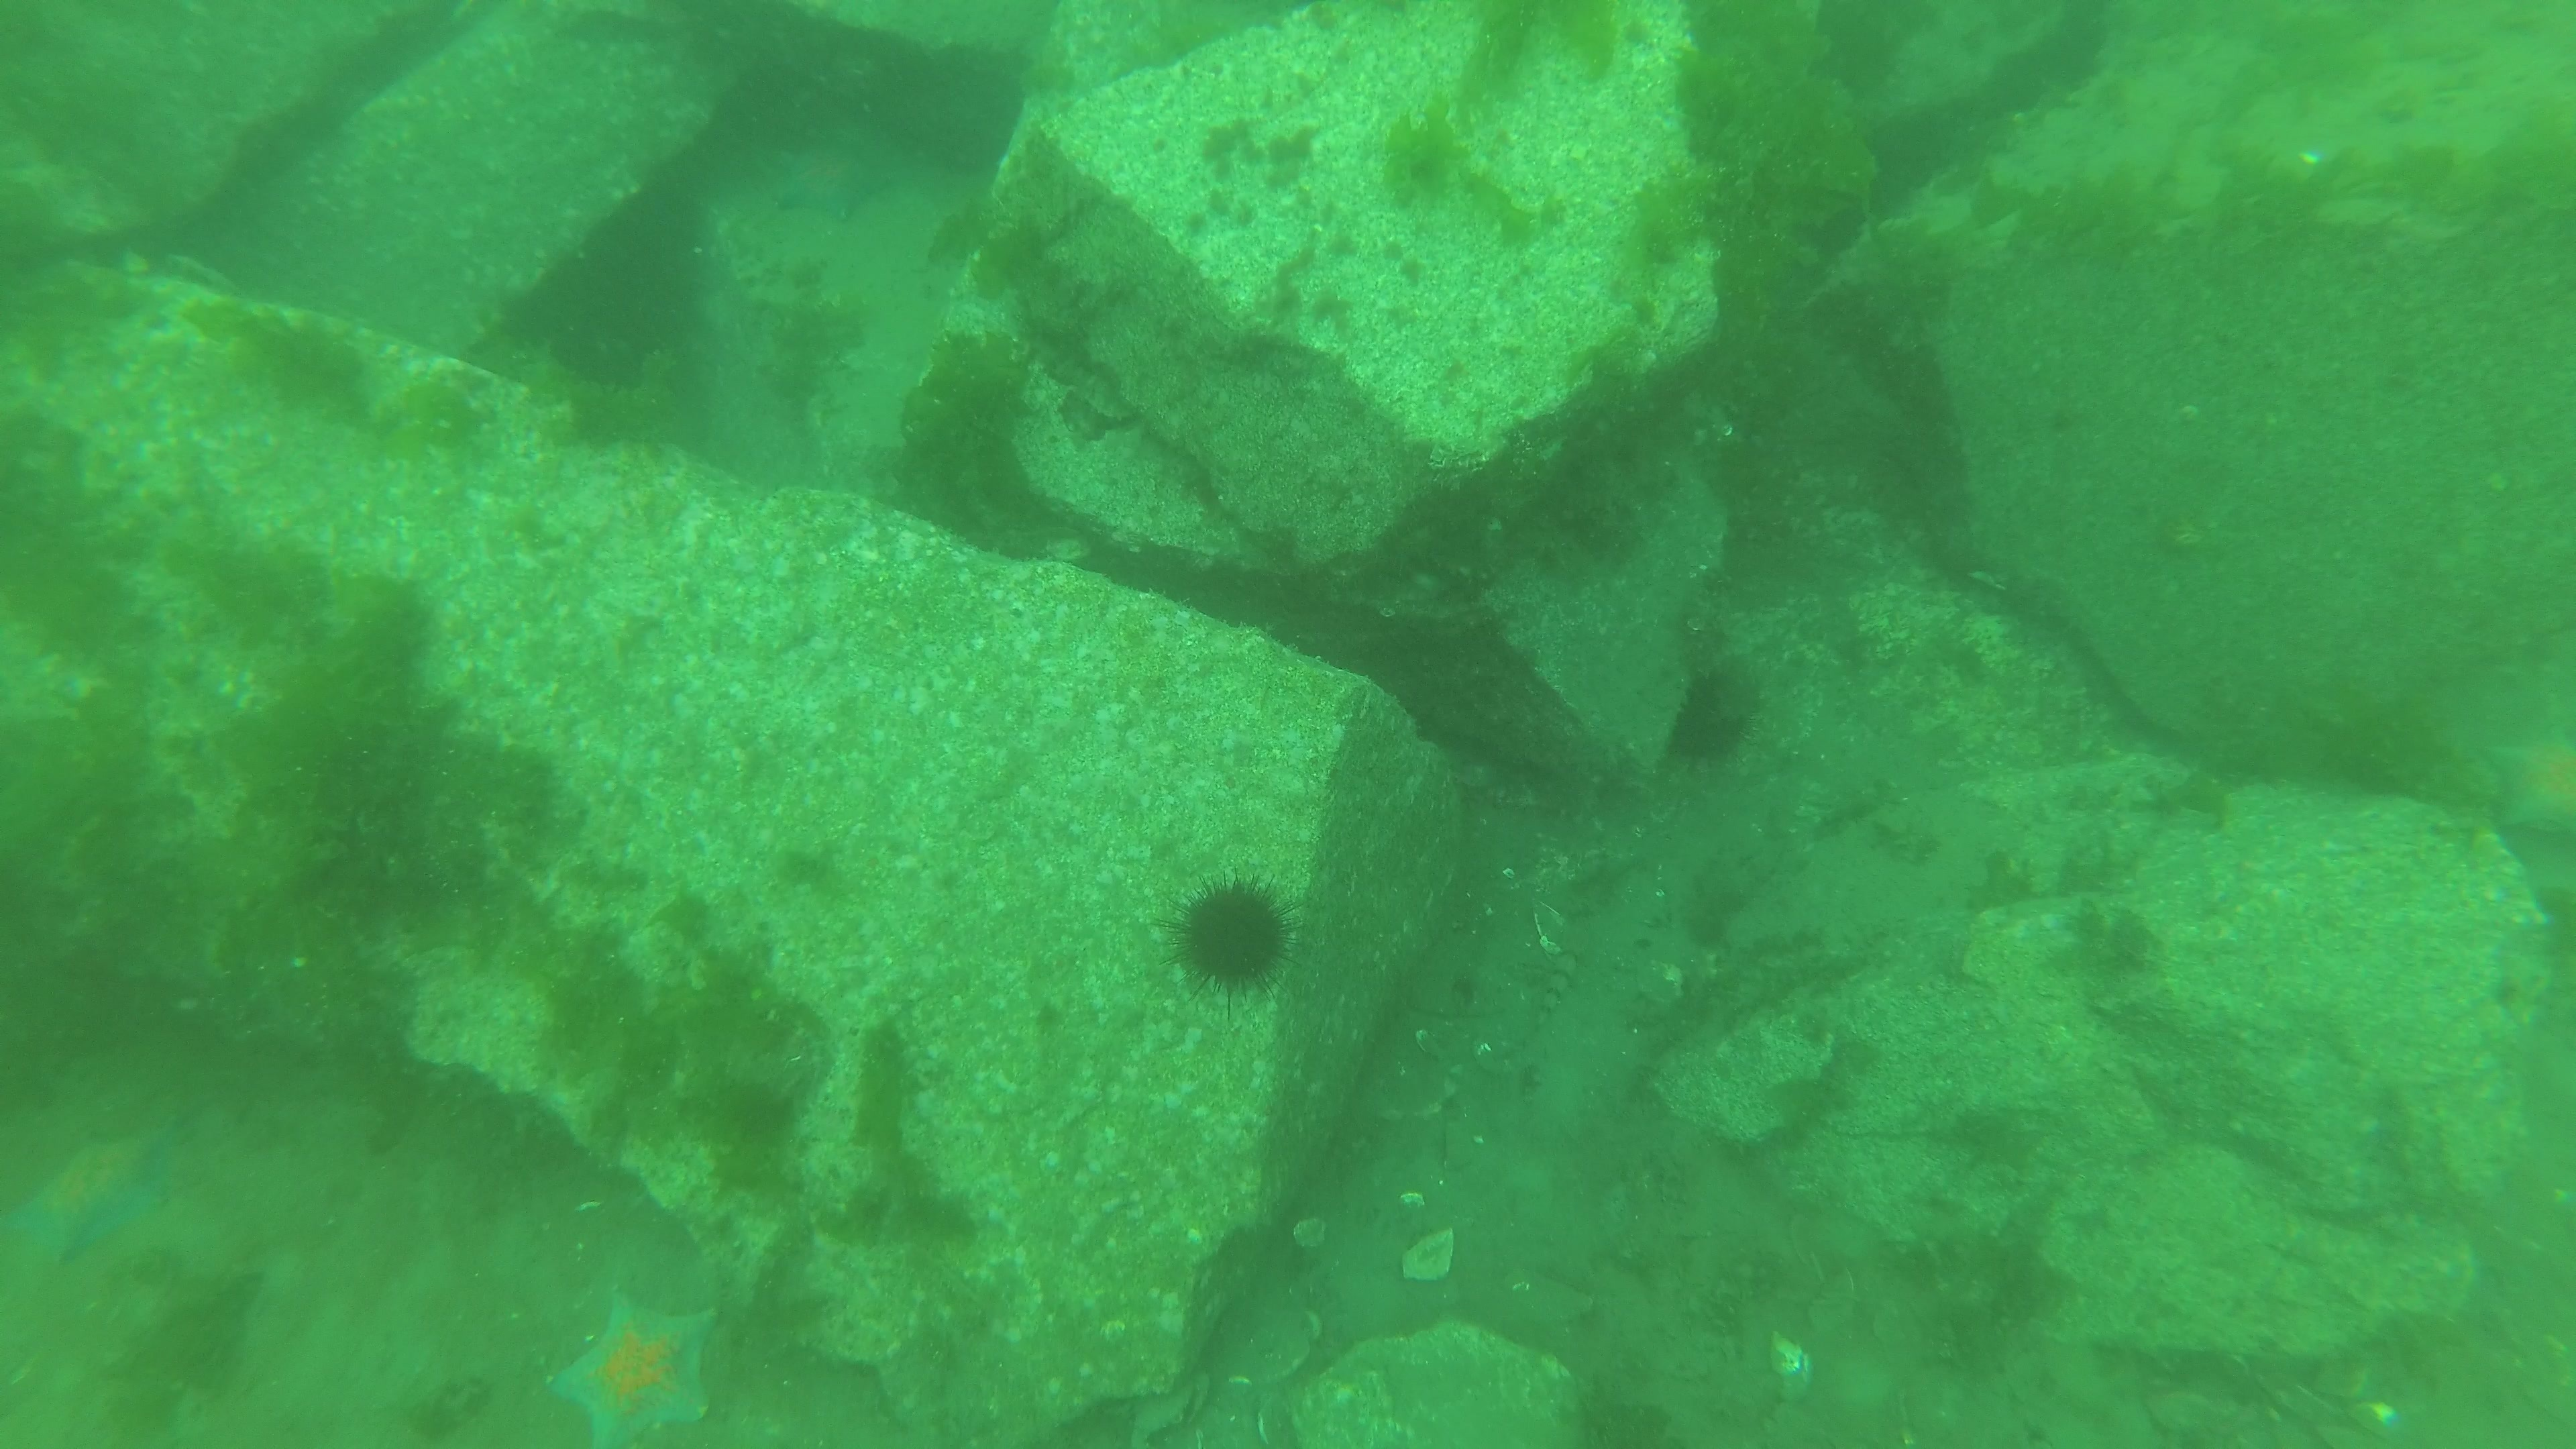echinus: (1157, 867, 1304, 1012), (1661, 667, 1755, 777)
starfish: (547, 1286, 718, 1449), (14, 1122, 175, 1265), (770, 136, 899, 234)
